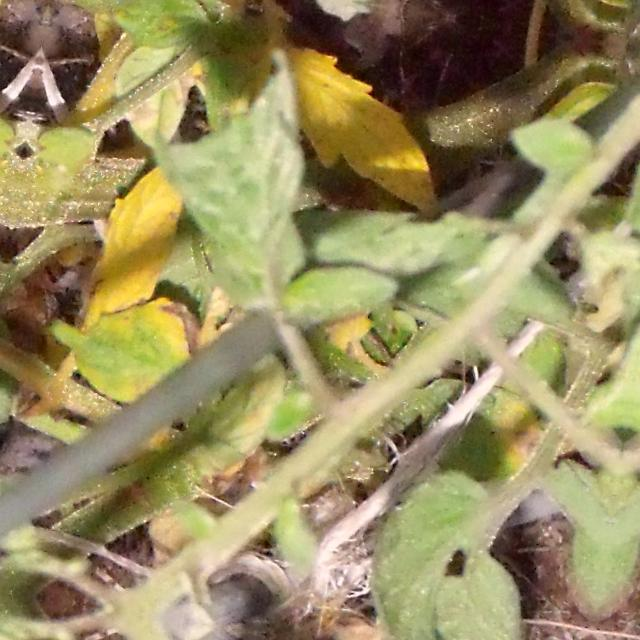Tomato leaf bacterial spot: (464, 398, 628, 640)
